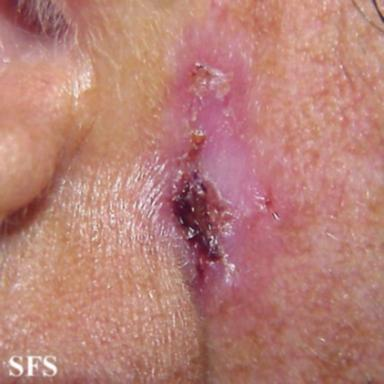basal-cell-carcinoma: (130, 1, 306, 324)
